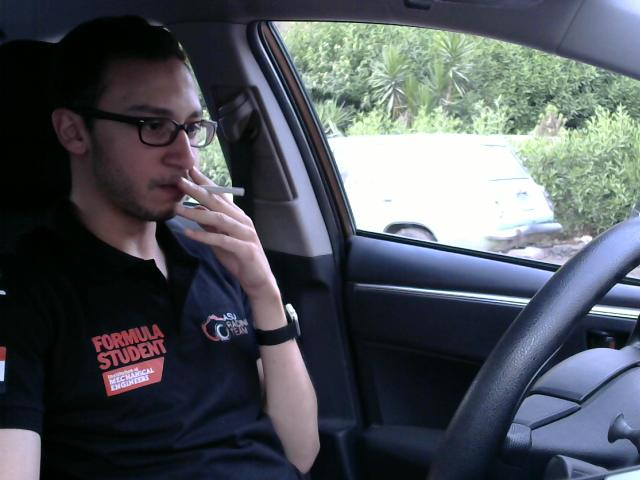Smoking: (175, 175, 253, 202)
